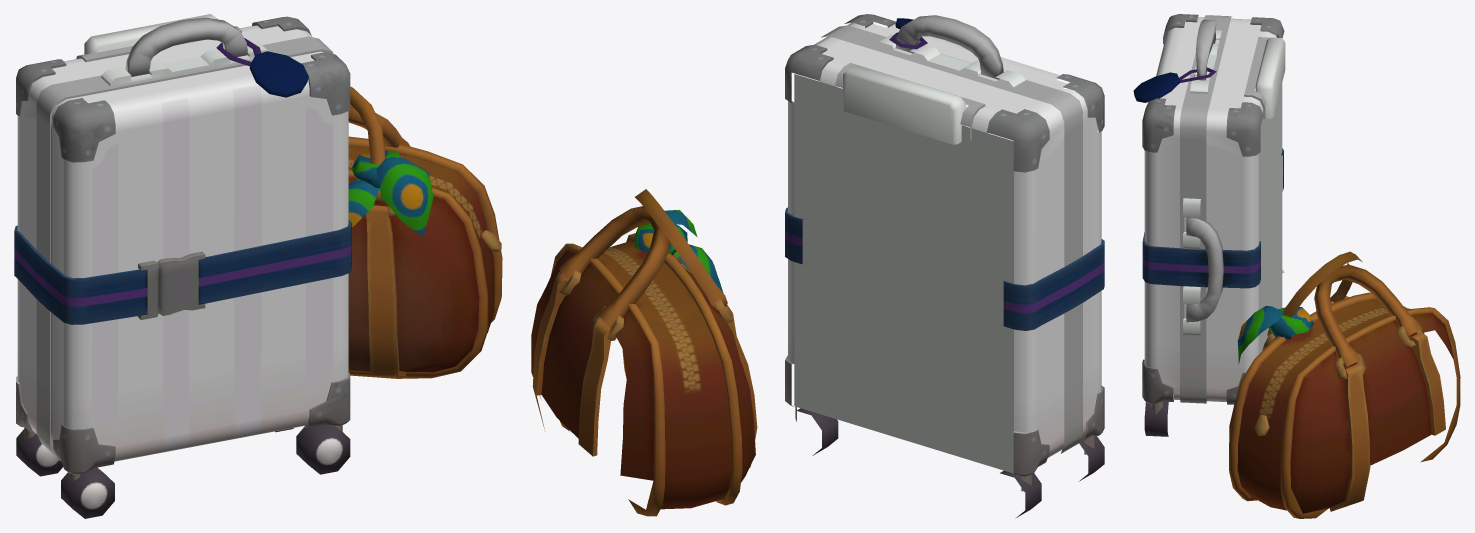
File: EvtobjKotono.glb
The picture shows the model from 3 angles, left to right: view 1: azimuth 30°, elevation 25°; view 2: azimuth 150°, elevation 25°; view 3: azimuth 270°, elevation 25°; orthographic projection. The views are drawn at different scales.
Visible parts, largest first — view 1: bs_j1__mEvtobjKotono; view 2: bs_j1__mEvtobjKotono; view 3: bs_j1__mEvtobjKotono.
Boxes of the visible parts, x1,y1,x2,y2 form: bs_j1__mEvtobjKotono: (14, 14, 502, 518); bs_j1__mEvtobjKotono: (531, 14, 1104, 518); bs_j1__mEvtobjKotono: (1133, 14, 1460, 518).
Bounding box in the file's own units: 10.14 × 8.59 × 7.03.
Materials: 1 (1 with a texture image).
